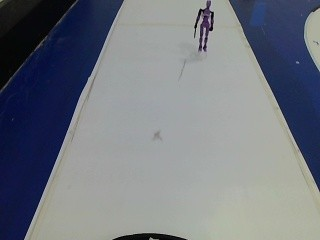pedestrian: (187, 0, 220, 55)
